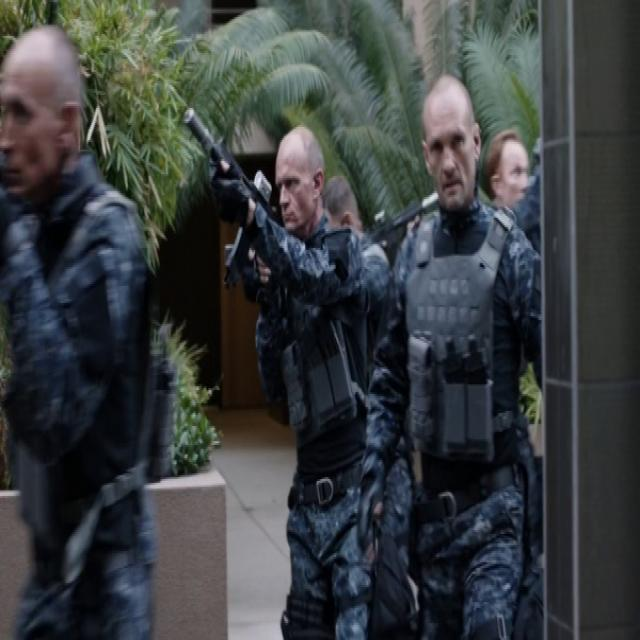rifle: (183, 102, 271, 273)
